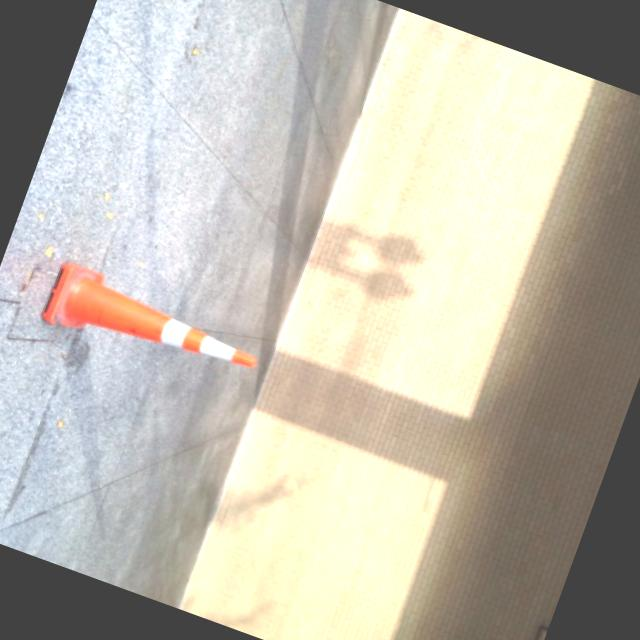cone: (25, 244, 282, 416)
